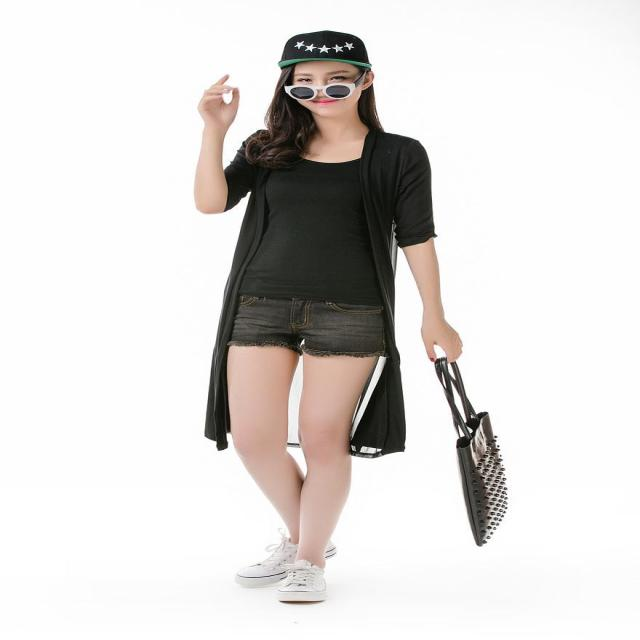long sleeve outwear: (206, 130, 282, 451)
shorts: (227, 279, 387, 359)
